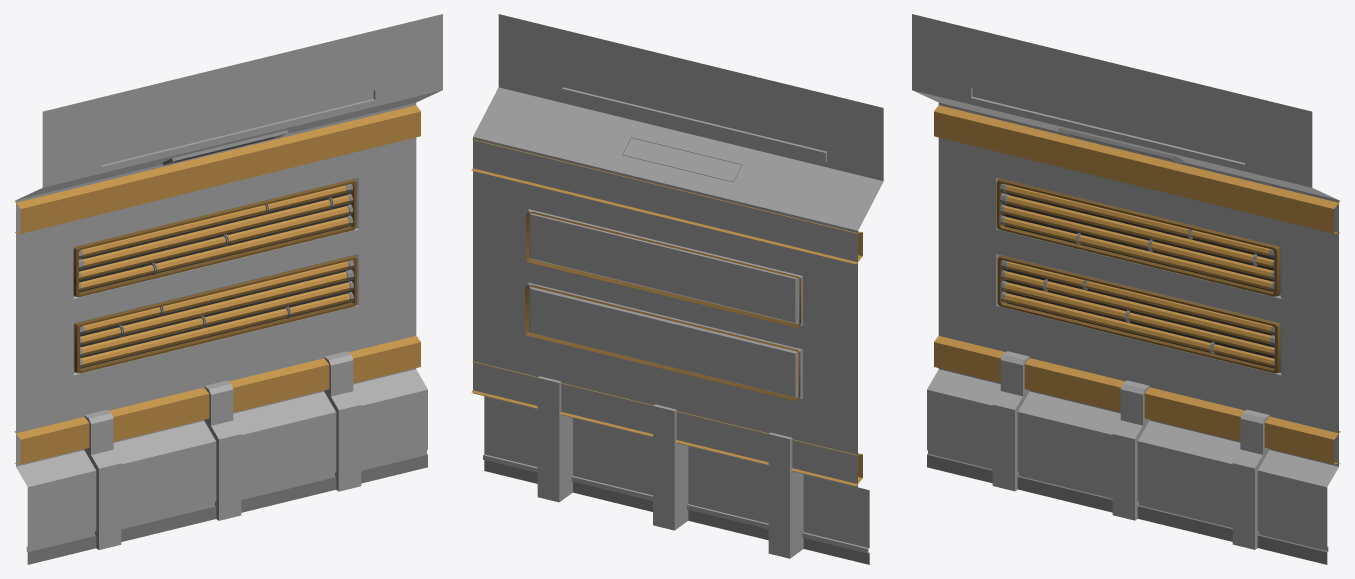
The model's file is Wall_5_GD.glb.
3 views of the same model, side by side, from view 1: azimuth 30°, elevation 25°; view 2: azimuth 150°, elevation 25°; view 3: azimuth 330°, elevation 25° (orthographic). The views are drawn at different scales.
Visible parts, largest first — view 1: Wall_5; view 2: Wall_5; view 3: Wall_5.
Boxes of the visible parts, bbox=[...] form: Wall_5: bbox=[14, 14, 442, 564]; Wall_5: bbox=[471, 14, 883, 564]; Wall_5: bbox=[912, 14, 1340, 564].
Bounding box in the file's own units: 30 × 33.23 × 3.96.
